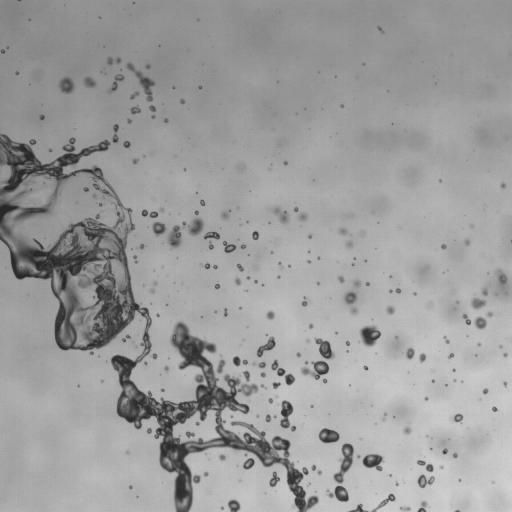droplet: (301, 337, 335, 379), (359, 325, 380, 346), (362, 453, 383, 470), (318, 428, 339, 443), (272, 206, 289, 224), (203, 231, 220, 249), (59, 77, 74, 93), (417, 474, 434, 487), (470, 297, 486, 309), (152, 222, 165, 236), (269, 471, 279, 487), (223, 241, 236, 253), (474, 316, 486, 329), (227, 499, 240, 511), (496, 269, 507, 283), (344, 292, 356, 304), (233, 356, 247, 366), (243, 458, 254, 469), (417, 500, 428, 511), (84, 77, 95, 87), (451, 413, 462, 423), (462, 314, 470, 325), (406, 348, 414, 359), (220, 210, 229, 219), (298, 212, 307, 221), (130, 106, 140, 114), (266, 310, 274, 319), (403, 425, 411, 434), (345, 240, 353, 248), (350, 306, 358, 314), (386, 306, 394, 314), (122, 334, 130, 342), (419, 353, 426, 362), (301, 296, 307, 306), (339, 228, 347, 235), (265, 414, 272, 422), (400, 506, 410, 511), (123, 141, 130, 148), (353, 280, 360, 287), (252, 231, 258, 239), (272, 382, 280, 388), (482, 286, 487, 295), (238, 164, 245, 170), (237, 264, 243, 271), (338, 276, 344, 283), (235, 278, 241, 285), (219, 454, 226, 460), (149, 105, 155, 111), (132, 158, 138, 164), (464, 239, 470, 245), (214, 283, 220, 289), (486, 311, 492, 317), (39, 114, 44, 120), (278, 262, 283, 268), (444, 337, 449, 343), (164, 366, 169, 372), (483, 388, 488, 394), (442, 448, 447, 454), (500, 183, 505, 188), (139, 244, 144, 249), (441, 244, 446, 249), (395, 288, 400, 293), (308, 323, 313, 328), (448, 353, 453, 358), (260, 372, 265, 377), (146, 428, 151, 433), (378, 26, 382, 32), (83, 187, 89, 191), (200, 199, 204, 205), (253, 264, 257, 270), (453, 452, 457, 458), (145, 64, 150, 68), (294, 207, 298, 212), (150, 288, 154, 293), (363, 365, 367, 370), (503, 381, 507, 386), (268, 398, 272, 403), (492, 407, 497, 411), (203, 472, 208, 476), (224, 309, 227, 315), (0, 49, 4, 53), (180, 99, 184, 103), (127, 119, 131, 123), (92, 194, 96, 198), (241, 244, 245, 248), (296, 352, 300, 356), (503, 353, 507, 357), (439, 465, 443, 469), (194, 211, 198, 214), (153, 281, 156, 285), (346, 341, 349, 345), (424, 397, 428, 400), (164, 119, 167, 122), (284, 161, 287, 164), (98, 203, 101, 206), (308, 235, 311, 238), (366, 282, 369, 285), (323, 379, 326, 382), (161, 388, 164, 391), (126, 451, 129, 454), (395, 482, 398, 485), (152, 115, 154, 118), (49, 148, 51, 151), (308, 260, 310, 263), (247, 276, 249, 279), (389, 290, 392, 292), (414, 292, 416, 295), (156, 314, 159, 316), (307, 339, 309, 342), (478, 342, 480, 345), (305, 361, 307, 364), (144, 362, 147, 364), (452, 369, 455, 371), (458, 479, 461, 481), (129, 486, 132, 488), (16, 72, 18, 74), (199, 86, 201, 88), (439, 179, 441, 181), (214, 310, 216, 312), (335, 332, 337, 334), (432, 379, 434, 381), (358, 455, 360, 457), (307, 483, 309, 485), (221, 507, 223, 509)
ligament: (0, 134, 314, 511), (326, 443, 354, 502), (167, 217, 203, 248), (127, 62, 154, 101), (348, 493, 395, 511), (271, 359, 295, 385), (279, 400, 295, 431), (256, 336, 275, 357), (109, 74, 123, 92), (141, 207, 164, 217), (417, 460, 433, 471), (112, 124, 118, 142), (311, 465, 321, 475), (107, 57, 121, 64), (130, 91, 139, 99), (253, 362, 265, 368), (203, 263, 217, 268), (382, 413, 386, 421), (133, 256, 137, 263), (429, 302, 432, 306), (454, 510, 459, 511)
